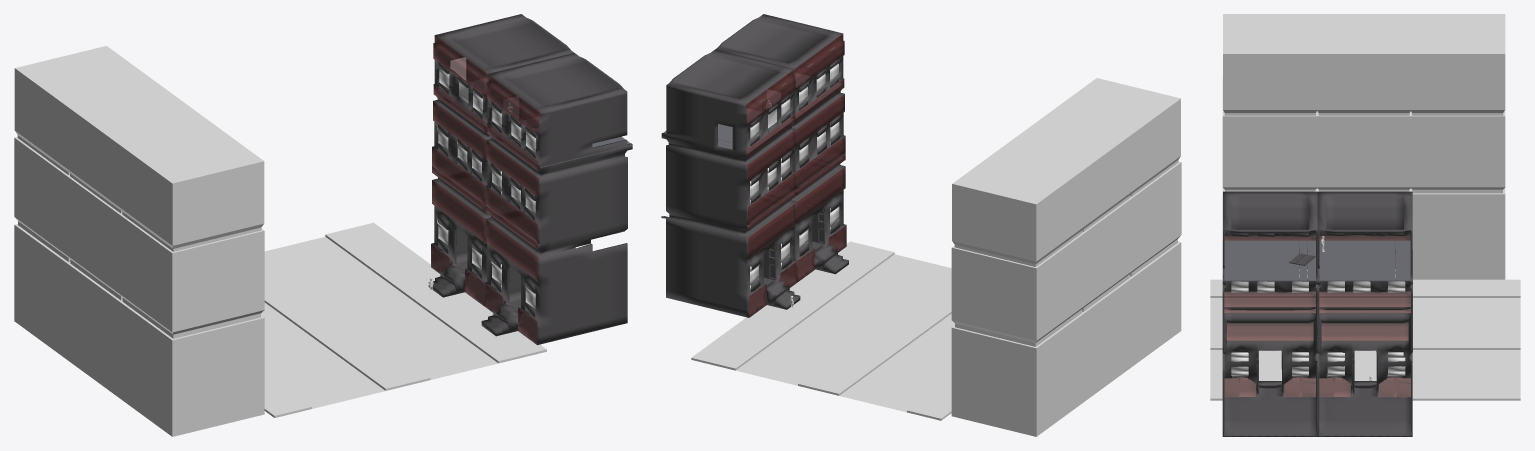
The model's file is predios inicio jogo com solidify.fbx.
The picture shows the model from 3 angles, left to right: view 1: azimuth 30°, elevation 25°; view 2: azimuth 150°, elevation 25°; view 3: azimuth 270°, elevation 25°; orthographic projection. The views are drawn at different scales.
Parts seen in each view (by area): view 1: Cube.005, Cube, Plane, Cube.003, Cube.004, Cube.013, Plane.001, Plane.015; view 2: Cube.003, Cube.013, Plane, Cube.005, Cube.004, Cube, Plane.001, Plane.015; view 3: Cube.003, Plane, Cube.013, Cube, Cube.005, Cube.004, Plane.001, Plane.015.
Part boxes in pixels (x1,y1,x2,y2): Cube.005: (119,123,264,436); Cube: (481,53,632,344); Plane: (261,222,546,417); Cube.003: (14,46,159,359); Cube.004: (66,84,211,397); Cube.013: (428,14,573,306); Plane.001: (435,78,518,127); Plane.015: (488,117,632,167); Cube.003: (951,148,1085,436); Cube.013: (661,49,800,317); Plane: (691,241,954,420); Cube.005: (1049,78,1181,365); Cube.004: (1001,113,1133,401); Cube: (715,14,848,282); Plane.001: (663,108,793,153); Plane.015: (766,73,842,117); Cube.003: (1410,14,1505,279); Plane: (1210,279,1520,400); Cube.013: (1317,191,1412,436); Cube: (1222,191,1317,436); Cube.005: (1222,14,1317,240); Cube.004: (1316,14,1411,240); Plane.001: (1318,240,1411,281); Plane.015: (1222,240,1315,281).
Bounding box in the file's own units: 2899 × 1523 × 1889.
